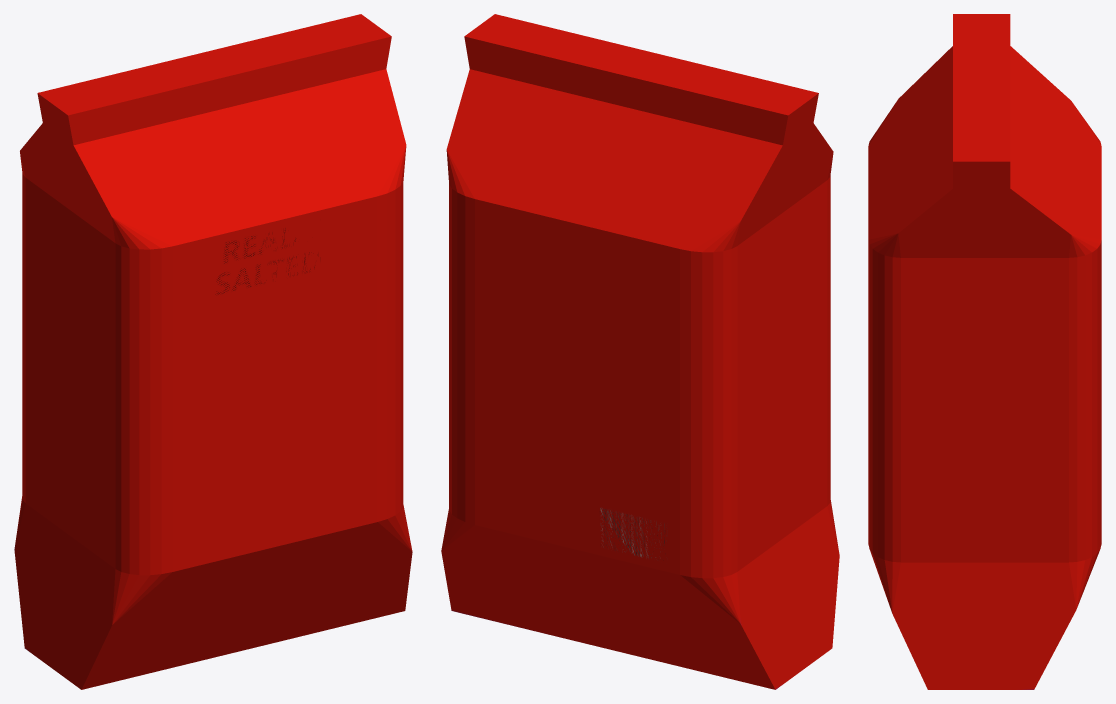
The model's file is ready_salted.glb.
3 renders of one model, left to right at view 1: azimuth 30°, elevation 25°; view 2: azimuth 150°, elevation 25°; view 3: azimuth 270°, elevation 25°, orthographic. The views are drawn at different scales.
Parts seen in each view (by area): view 1: Cube; view 2: Cube; view 3: Cube.
Part boxes in pixels (left/top/right/bottom): Cube: left=14, top=14, right=412, bottom=689; Cube: left=441, top=14, right=839, bottom=689; Cube: left=868, top=14, right=1101, bottom=689.
Size of the model in its own units: 0.3 by 0.5 by 0.2.
Materials: 1 (1 with a texture image).
